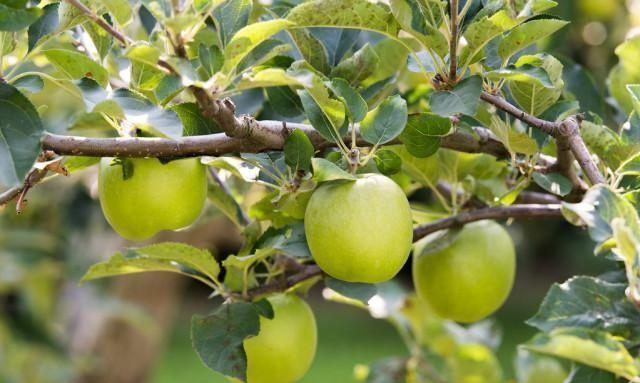apple: (303, 173, 415, 285), (411, 220, 518, 324), (99, 154, 207, 241), (239, 292, 319, 382)
